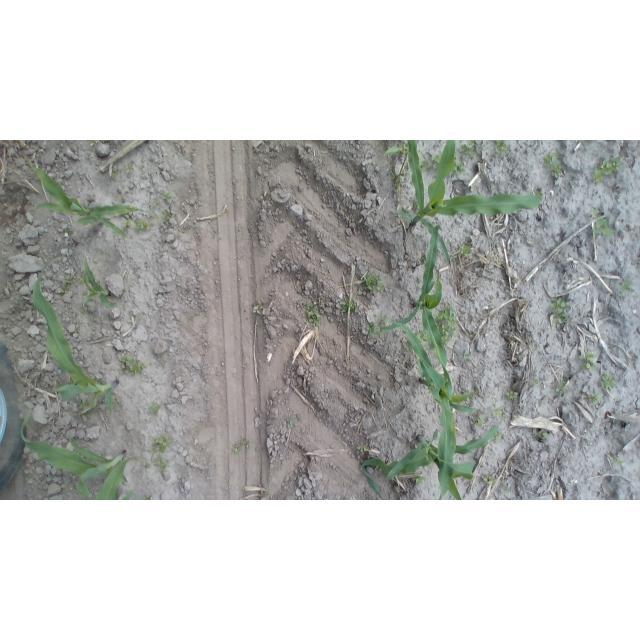Maize: (398, 140, 545, 265), (393, 324, 483, 499), (31, 258, 118, 420), (384, 224, 457, 401), (17, 415, 152, 499), (356, 429, 507, 500), (27, 161, 161, 240), (92, 453, 152, 500), (78, 254, 118, 311), (382, 143, 410, 162)
Weeds: (385, 162, 410, 202), (437, 306, 459, 346), (593, 157, 623, 184), (118, 354, 146, 376), (543, 151, 564, 180), (550, 297, 570, 327), (149, 433, 174, 455), (303, 301, 321, 327), (578, 350, 598, 373), (362, 273, 383, 294), (592, 218, 612, 237), (232, 436, 251, 455), (459, 141, 478, 159), (601, 371, 618, 389), (493, 140, 512, 156), (340, 295, 356, 313), (153, 454, 167, 474), (58, 277, 72, 295), (134, 218, 153, 231), (425, 154, 440, 170), (454, 157, 467, 175), (458, 243, 472, 259), (473, 410, 487, 426), (252, 300, 266, 315), (553, 379, 567, 393), (413, 472, 426, 487), (286, 415, 299, 430), (483, 473, 497, 486), (492, 404, 505, 418), (150, 401, 162, 416), (620, 278, 632, 293), (365, 321, 377, 336), (379, 314, 390, 329), (416, 329, 428, 342), (588, 393, 602, 404), (77, 399, 90, 410), (506, 390, 519, 401), (162, 210, 173, 223), (461, 351, 473, 362), (403, 340, 413, 353), (112, 399, 125, 409), (258, 490, 272, 499), (357, 444, 368, 455), (539, 429, 550, 440), (63, 226, 74, 236), (121, 219, 132, 229), (501, 483, 512, 493), (493, 432, 503, 443), (124, 162, 134, 173), (163, 191, 172, 203), (590, 207, 600, 217), (615, 458, 626, 467), (259, 192, 269, 201), (157, 360, 167, 369), (532, 377, 541, 387), (110, 165, 118, 176), (237, 224, 246, 233), (143, 493, 154, 500), (221, 206, 229, 215), (567, 217, 575, 226), (78, 276, 85, 285), (153, 200, 160, 208), (413, 200, 419, 209), (180, 229, 189, 235), (74, 326, 80, 335), (613, 419, 620, 426)
